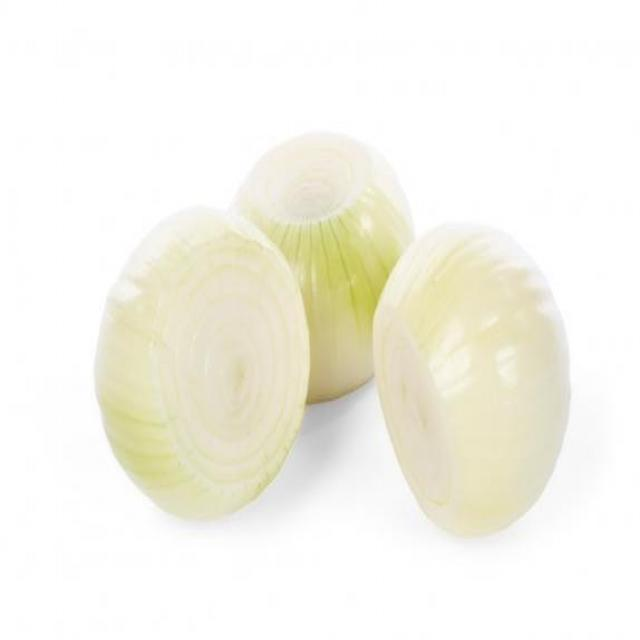onion: (92, 201, 316, 524), (369, 218, 575, 539), (220, 126, 416, 405)
